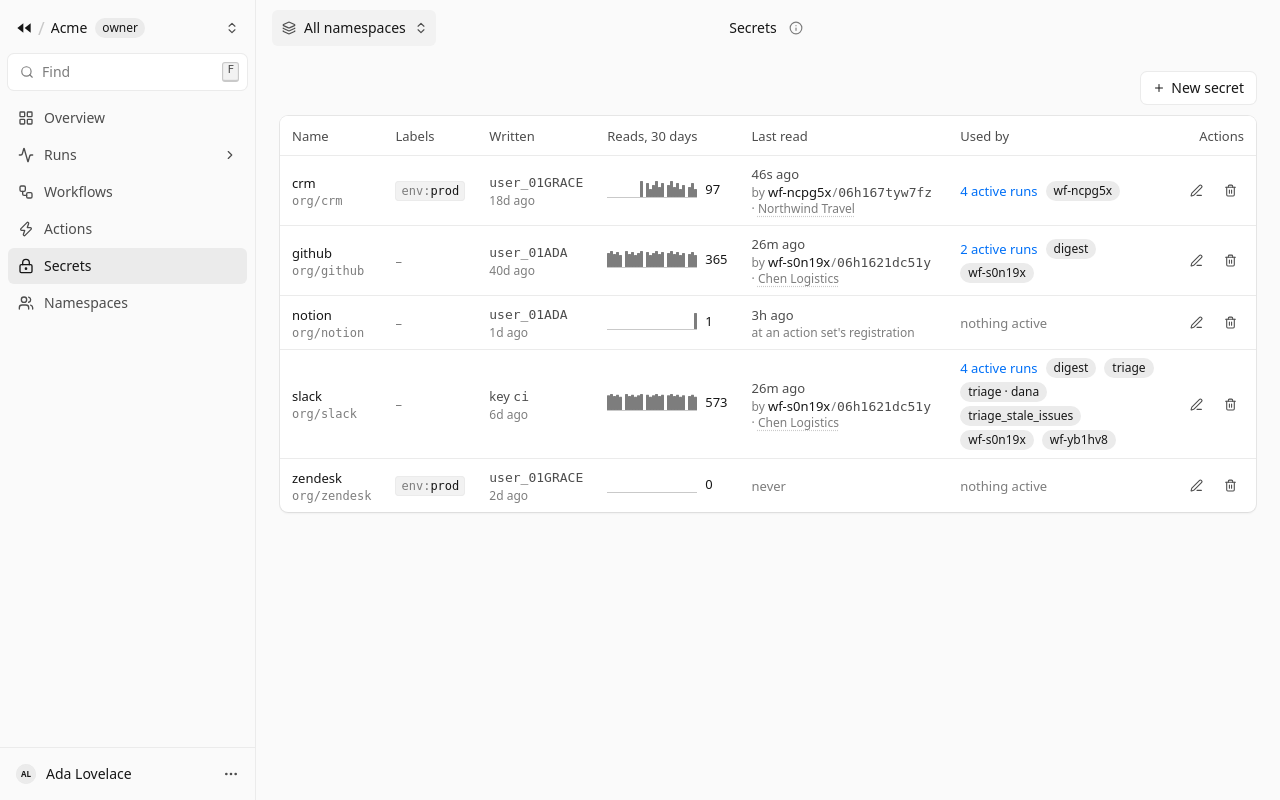
the Secrets view › says when a deletion stops nothing
This screenshot has width=1280, height=800.
Check: the text "org/zendesk" is shown, box [292, 488, 372, 504]
What coordinates should you click on to do the following:
click the button named "Delete org/zendesk"
I would click on:
 (1230, 486)
Its box is [1216, 472, 1244, 500].
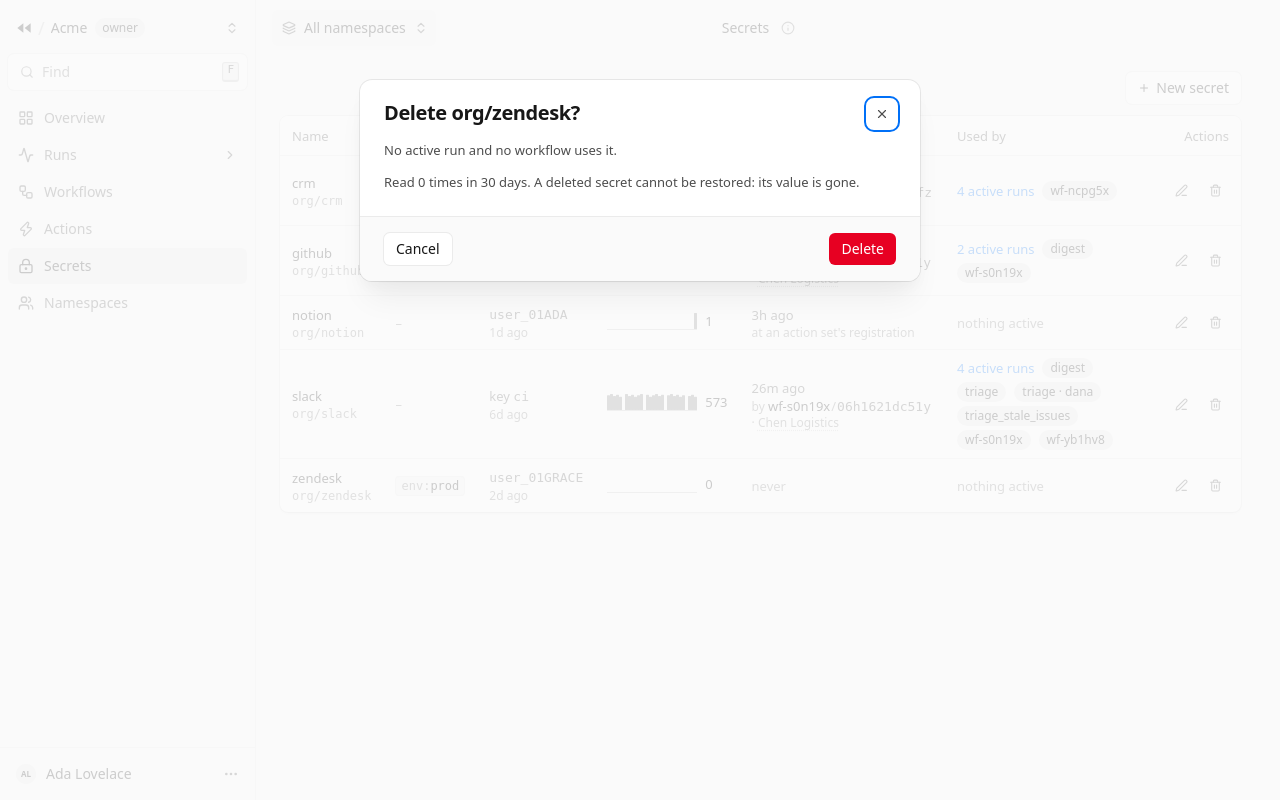
Check: the element with test id "impact" shows "No active run and no workflow uses it.", box [384, 141, 617, 159]
Check: the element with test id "impact" shows "Read 0 times in 30 days", box [384, 140, 896, 192]
